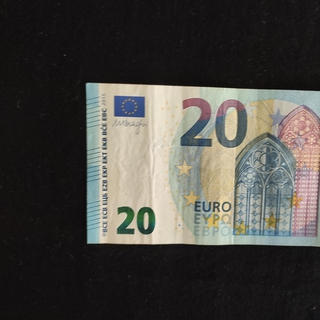20EUROFront: (84, 81, 320, 249)
